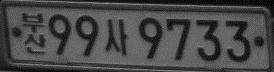3: (224, 19, 252, 63), (195, 18, 221, 61)
7: (165, 17, 191, 61)
9: (74, 14, 100, 57), (138, 17, 164, 59), (47, 13, 72, 55)
부산_V: (21, 12, 46, 55)
사: (104, 18, 128, 56)
